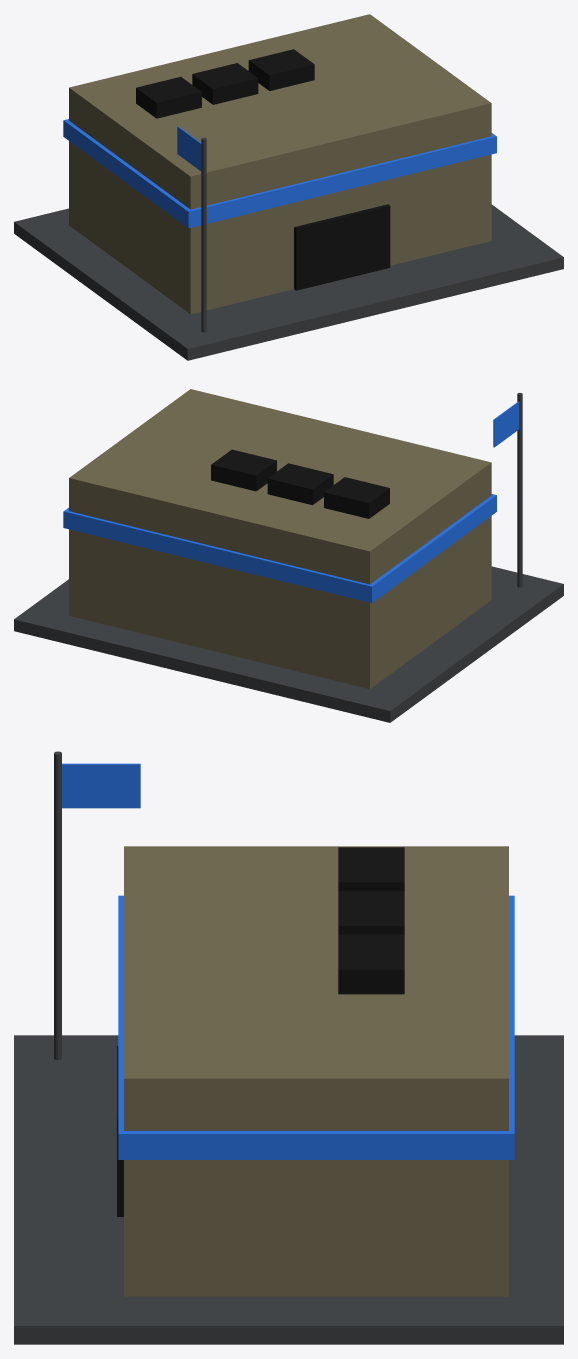
Rendered from us_barracks.glb.
3 renders of one model, top to bottom at view 1: azimuth 30°, elevation 25°; view 2: azimuth 150°, elevation 25°; view 3: azimuth 270°, elevation 25°, orthographic. The views are drawn at different scales.
Parts seen in each view (by area): view 1: main, base, team_band, door, vent_0, vent_2, vent_1, flagpole, flag; view 2: main, base, team_band, vent_0, vent_1, vent_2, flagpole, flag; view 3: main, base, team_band, vent_2, flag, vent_0, vent_1, flagpole.
Part boxes in pixels (bbox=[...]): main: bbox=[69, 14, 491, 314]; base: bbox=[14, 204, 563, 360]; team_band: bbox=[63, 119, 496, 228]; door: bbox=[294, 204, 390, 290]; vent_0: bbox=[136, 77, 201, 118]; vent_2: bbox=[248, 49, 314, 90]; vent_1: bbox=[192, 63, 258, 104]; flagpole: bbox=[201, 137, 206, 332]; flag: bbox=[177, 126, 201, 171]; main: bbox=[69, 389, 491, 689]; base: bbox=[14, 566, 563, 722]; team_band: bbox=[63, 494, 496, 602]; vent_0: bbox=[324, 477, 389, 518]; vent_1: bbox=[267, 463, 333, 505]; vent_2: bbox=[211, 449, 276, 491]; flagpole: bbox=[517, 393, 522, 587]; flag: bbox=[493, 401, 519, 447]; main: bbox=[124, 846, 508, 1296]; base: bbox=[14, 1035, 563, 1344]; team_band: bbox=[118, 895, 514, 1159]; vent_2: bbox=[338, 934, 404, 994]; flag: bbox=[62, 763, 140, 808]; vent_0: bbox=[338, 847, 404, 890]; vent_1: bbox=[338, 891, 404, 934]; flagpole: bbox=[54, 751, 61, 1060].
Bounding box in the file's own units: 10 × 5.2 × 8.
